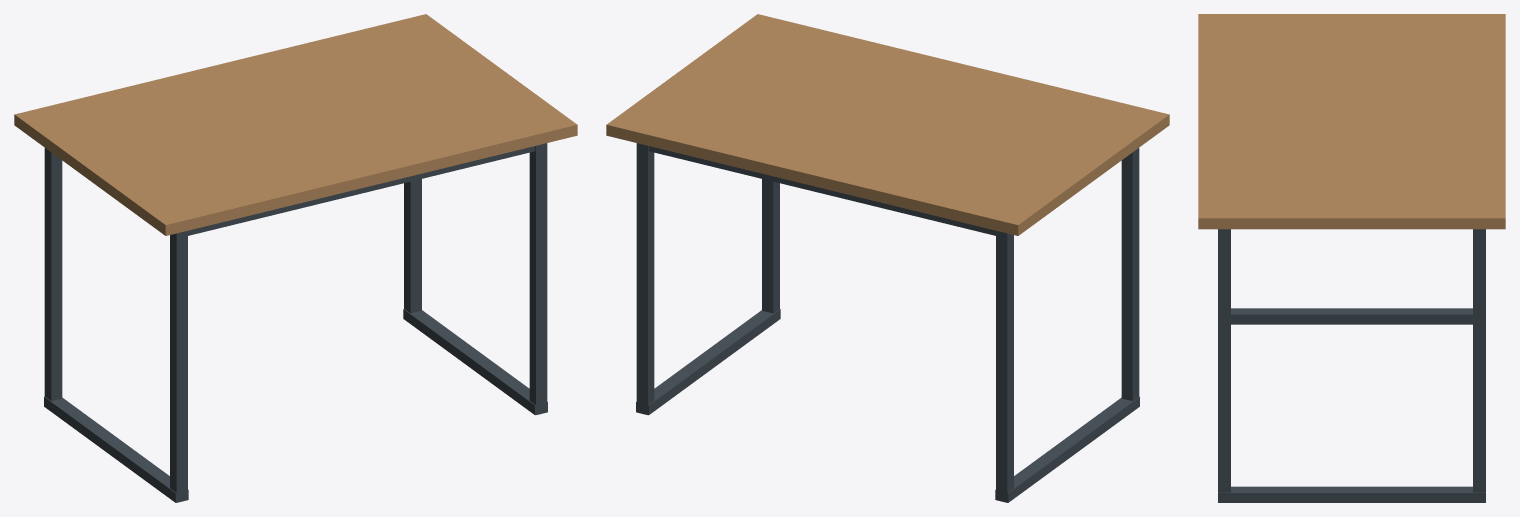
The model's file is meetingTable-3.glb.
The picture shows the model from 3 angles, left to right: view 1: azimuth 30°, elevation 25°; view 2: azimuth 150°, elevation 25°; view 3: azimuth 270°, elevation 25°; orthographic projection.
Parts seen in each view (by area): view 1: meetingTable:3:editor; view 2: meetingTable:3:editor; view 3: meetingTable:3:editor.
Boxes of the visible parts, x1,y1,x2,y2 form: meetingTable:3:editor: (14, 14, 577, 502); meetingTable:3:editor: (606, 14, 1169, 502); meetingTable:3:editor: (1198, 14, 1505, 502).
Size of the model in its own units: 1.1 by 0.74 by 0.6999.
